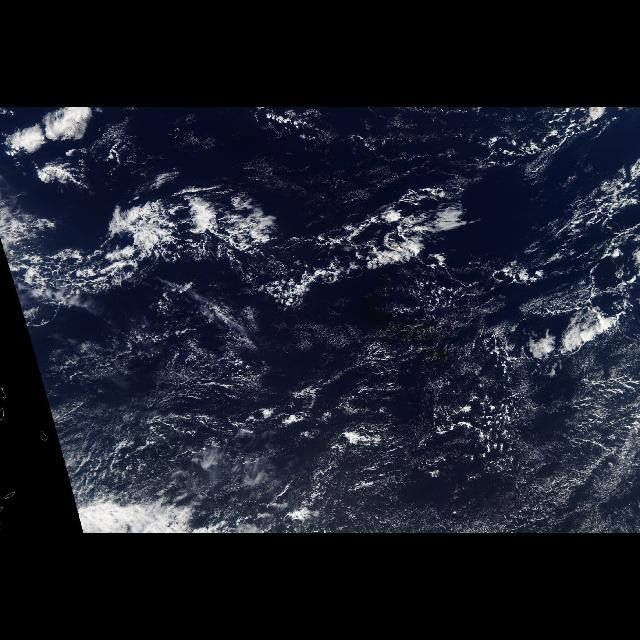Fish: (1, 179, 640, 363)
Gravel: (240, 225, 640, 523)
Sugar: (250, 309, 640, 533)
